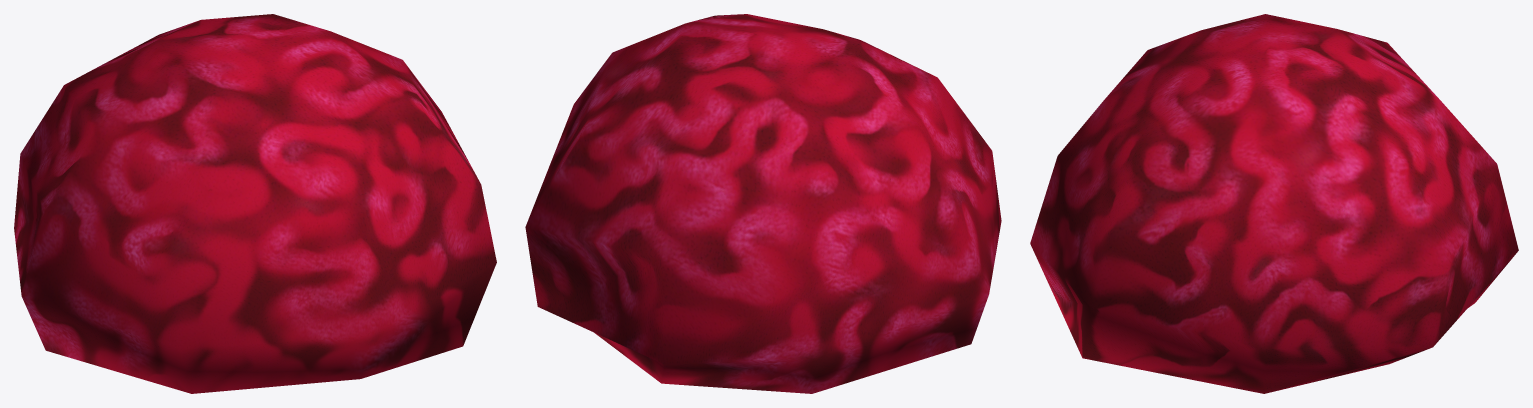
File: PurpleFlower.fbx
3 renders of one model, left to right at view 1: azimuth 30°, elevation 25°; view 2: azimuth 150°, elevation 25°; view 3: azimuth 270°, elevation 25°, orthographic. The views are drawn at different scales.
Visible parts, largest first — view 1: PFlower; view 2: PFlower; view 3: PFlower.
Boxes of the visible parts, <box> form: PFlower: <box>14,14,496,393</box>; PFlower: <box>525,14,1001,393</box>; PFlower: <box>1030,14,1518,393</box>.
Size of the model in its own units: 10.87 by 8.07 by 10.86.
